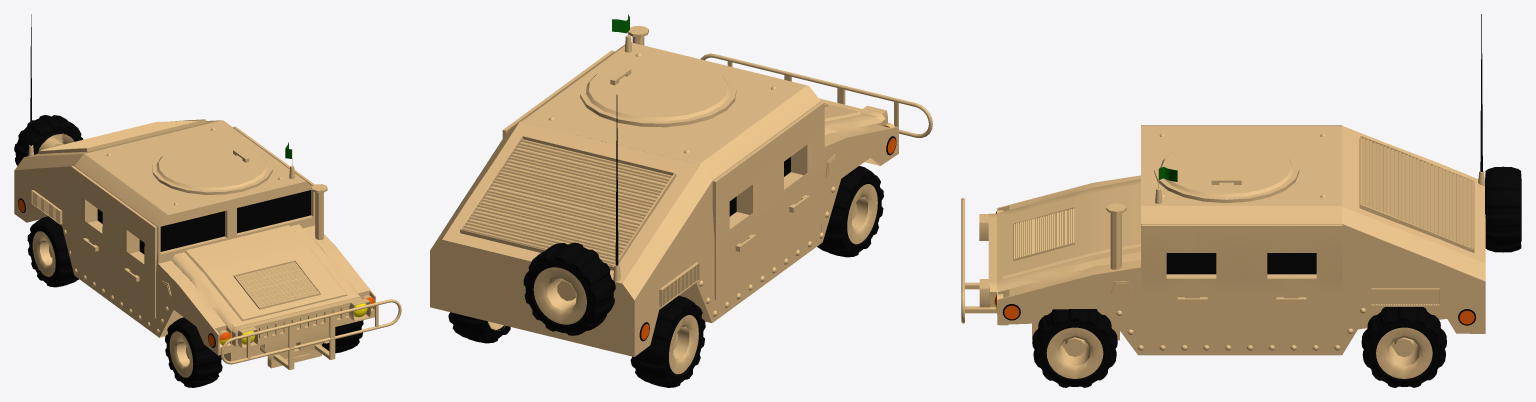
File: army hummer.glb
The picture shows the model from 3 angles, left to right: view 1: azimuth 30°, elevation 25°; view 2: azimuth 150°, elevation 25°; view 3: azimuth 270°, elevation 25°; orthographic projection. The views are drawn at different scales.
Parts seen in each view (by area): view 1: polySurface2, pCube8, pCube4, pCube11, lid, polySurface1, strip_frame3, polySurface4, strip_frame2, pCube12, polySurface6, polySurface12 (+9 smaller); view 2: polySurface1, polySurface2, strip_frame2, pCube11, lid, polySurface12, pCube4, polySurface6, polySurface4, polySurface16, polySurface13, polySurface14 (+4 smaller); view 3: polySurface2, pCube10, polySurface1, pCube4, strip_frame2, lid, pCube8, polySurface8, polySurface10, polySurface12, strip_frame3, polySurface9 (+5 smaller).
Boxes of the visible parts, x1=… form: polySurface2: x1=74, y1=120, x2=314, y2=336; pCube8: x1=184, y1=225, x2=347, y2=321; pCube4: x1=158, y1=224, x2=375, y2=355; pCube11: x1=71, y1=166, x2=157, y2=318; lid: x1=152, y1=141, x2=272, y2=194; polySurface1: x1=14, y1=120, x2=220, y2=274; strip_frame3: x1=233, y1=260, x2=320, y2=309; polySurface4: x1=165, y1=317, x2=222, y2=387; strip_frame2: x1=39, y1=119, x2=205, y2=154; pCube12: x1=232, y1=297, x2=365, y2=346; polySurface6: x1=27, y1=216, x2=78, y2=287; polySurface12: x1=14, y1=115, x2=83, y2=165; polySurface1: x1=430, y1=121, x2=712, y2=356; polySurface2: x1=520, y1=42, x2=820, y2=322; strip_frame2: x1=460, y1=135, x2=676, y2=270; pCube11: x1=712, y1=101, x2=824, y2=299; lid: x1=580, y1=57, x2=736, y2=127; polySurface12: x1=523, y1=242, x2=615, y2=335; pCube4: x1=821, y1=112, x2=898, y2=243; polySurface6: x1=630, y1=295, x2=705, y2=387; polySurface4: x1=817, y1=166, x2=883, y2=257; polySurface16: x1=533, y1=267, x2=586, y2=324; polySurface13: x1=847, y1=184, x2=877, y2=244; polySurface14: x1=669, y1=315, x2=698, y2=374; polySurface2: x1=1141, y1=125, x2=1341, y2=355; pCube10: x1=1141, y1=224, x2=1342, y2=333; polySurface1: x1=1341, y1=125, x2=1485, y2=354; pCube4: x1=997, y1=175, x2=1140, y2=355; strip_frame2: x1=1359, y1=135, x2=1474, y2=252; lid: x1=1154, y1=138, x2=1299, y2=203; pCube8: x1=1003, y1=183, x2=1140, y2=278; polySurface8: x1=1361, y1=307, x2=1446, y2=387; polySurface10: x1=1032, y1=309, x2=1117, y2=387; polySurface12: x1=1485, y1=166, x2=1521, y2=252; strip_frame3: x1=1013, y1=206, x2=1074, y2=261; polySurface9: x1=1046, y1=327, x2=1103, y2=378.
Size of the model in its own units: 4.31 by 5.54 by 9.66.
